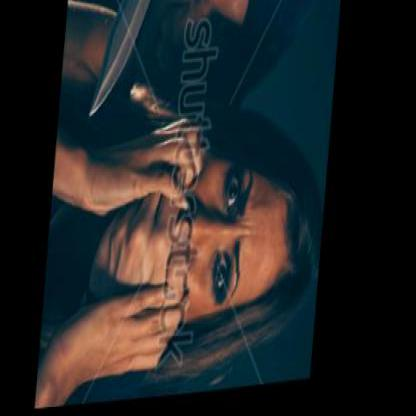knife: (84, 0, 206, 127)
